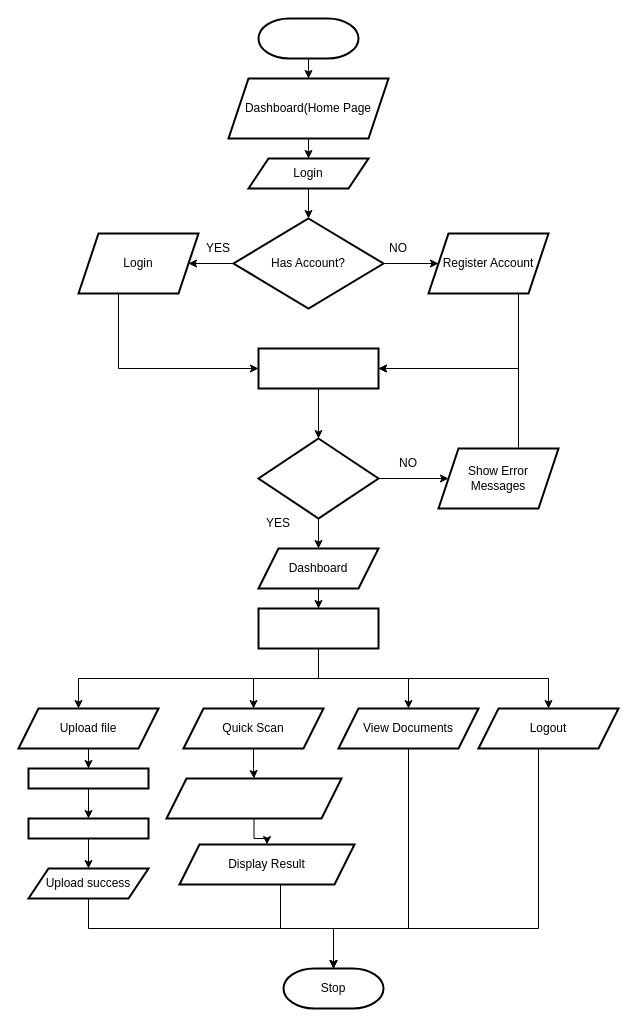
Image size: 636x1026. Some labels were removed from this diagram. The box of each missing label's shape, as (x1, y1, x2, y2) in pixels:
Extract text: (27, 767, 149, 789)
Generate similarity score: (165, 777, 342, 819)
Run analysis: (27, 817, 149, 839)
Select Action: (257, 607, 379, 649)
Start: (257, 17, 359, 59)
Valid?: (257, 437, 379, 519)
Validate Credentials: (257, 347, 379, 389)
